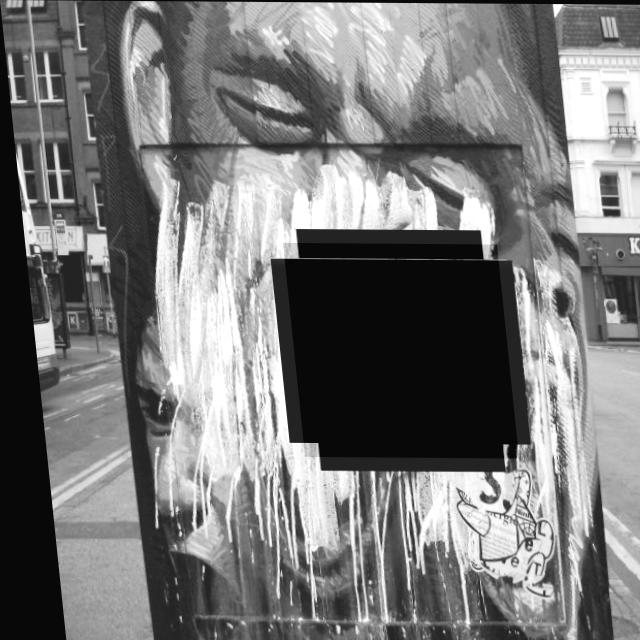qr_code: (278, 243, 509, 458)
